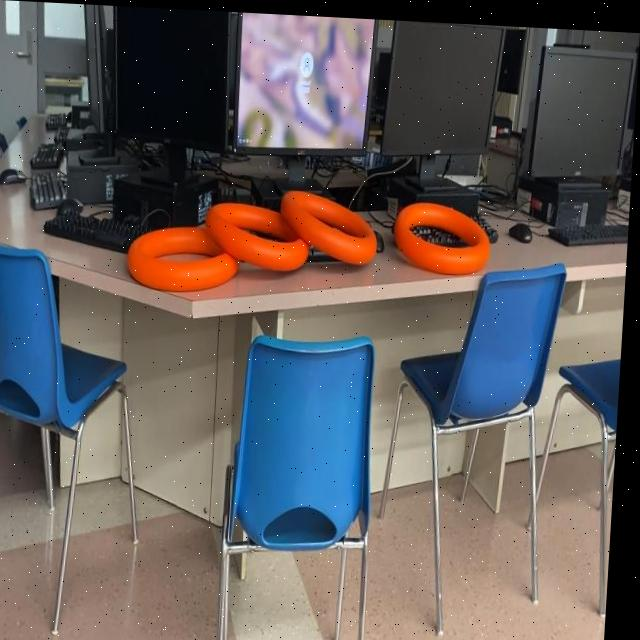note: (393, 193, 495, 273), (279, 184, 383, 262), (131, 221, 244, 291), (205, 197, 314, 269)
